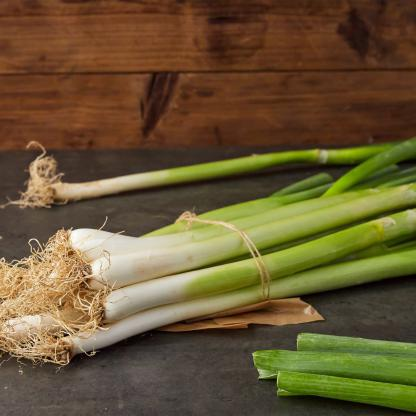green onion: (0, 209, 415, 356), (7, 130, 410, 218), (254, 326, 415, 415)
